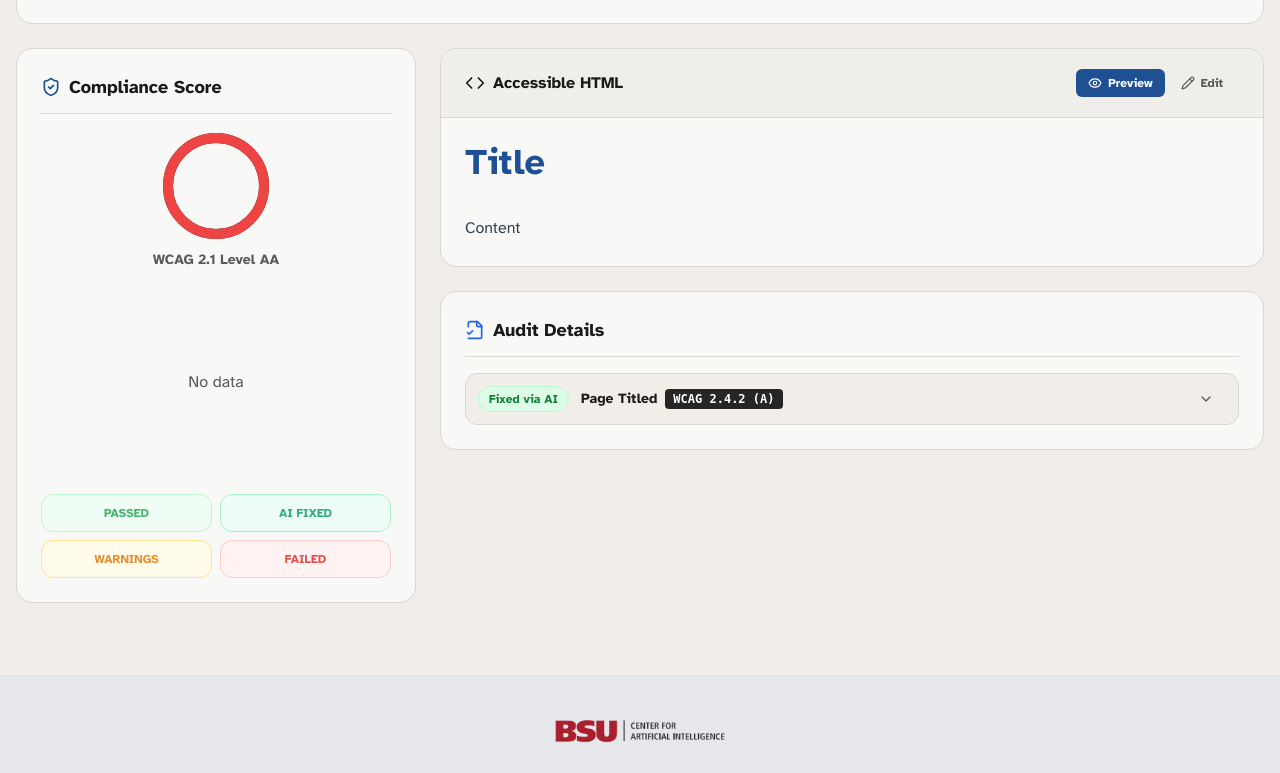
Test: PdfConversion results page - page title notes › labels the low-quality extracted title note distinctly from the generic-fallback note
(page scrolled)
What coordinates should you click on to do the following:
click the button with test id "issue-toggle-0"
I would click on:
 (524, 399)
Its box is [466,374,1226,424].
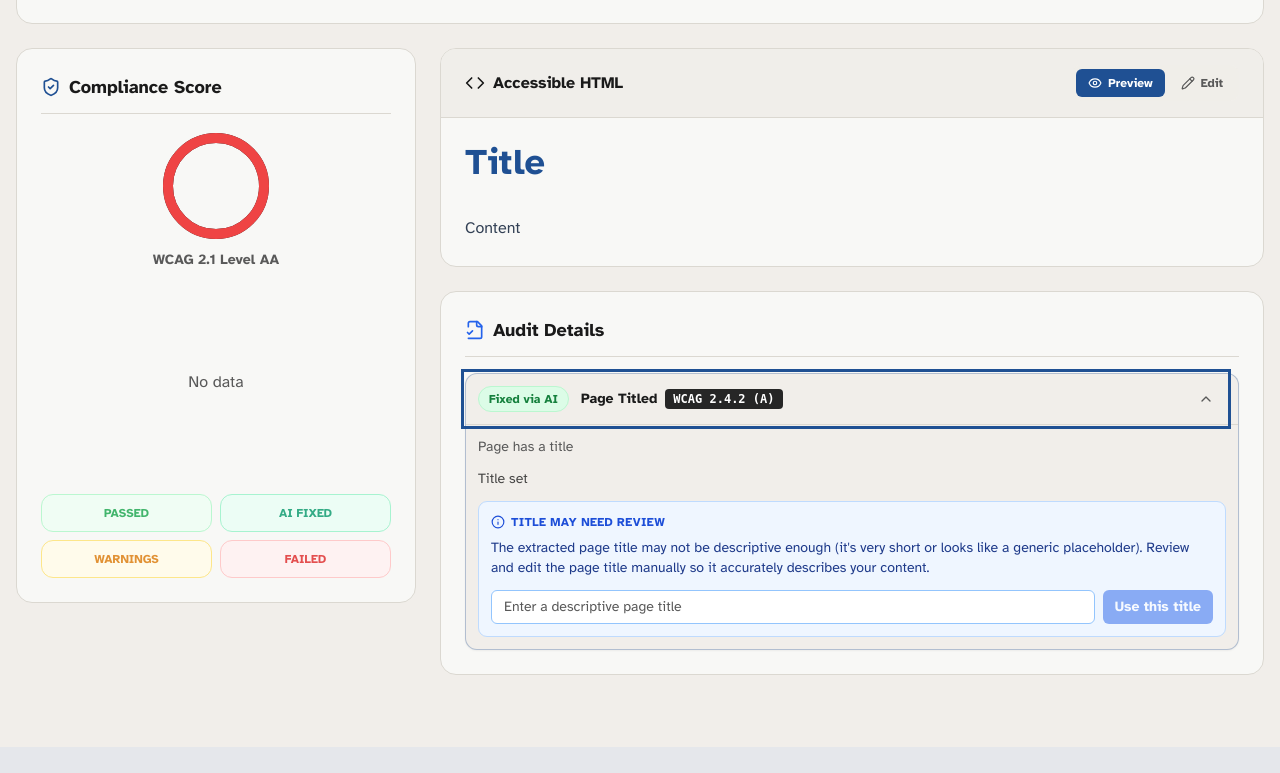
Expected: the element with test id "page-title-fix-notes-0" is shown, [478,501,1226,637]
Expected: the element with test id "page-title-fix-notes-0" shows "Title May Need Review", [511,515,665,529]
Expected: the text with test id "page-title-fix-notes-text-0" shows "The extracted page title may not be descriptive enough (it's very short or looks like a generic placeholder). Review and edit the page title manually so it accu", [491,539,1189,576]
